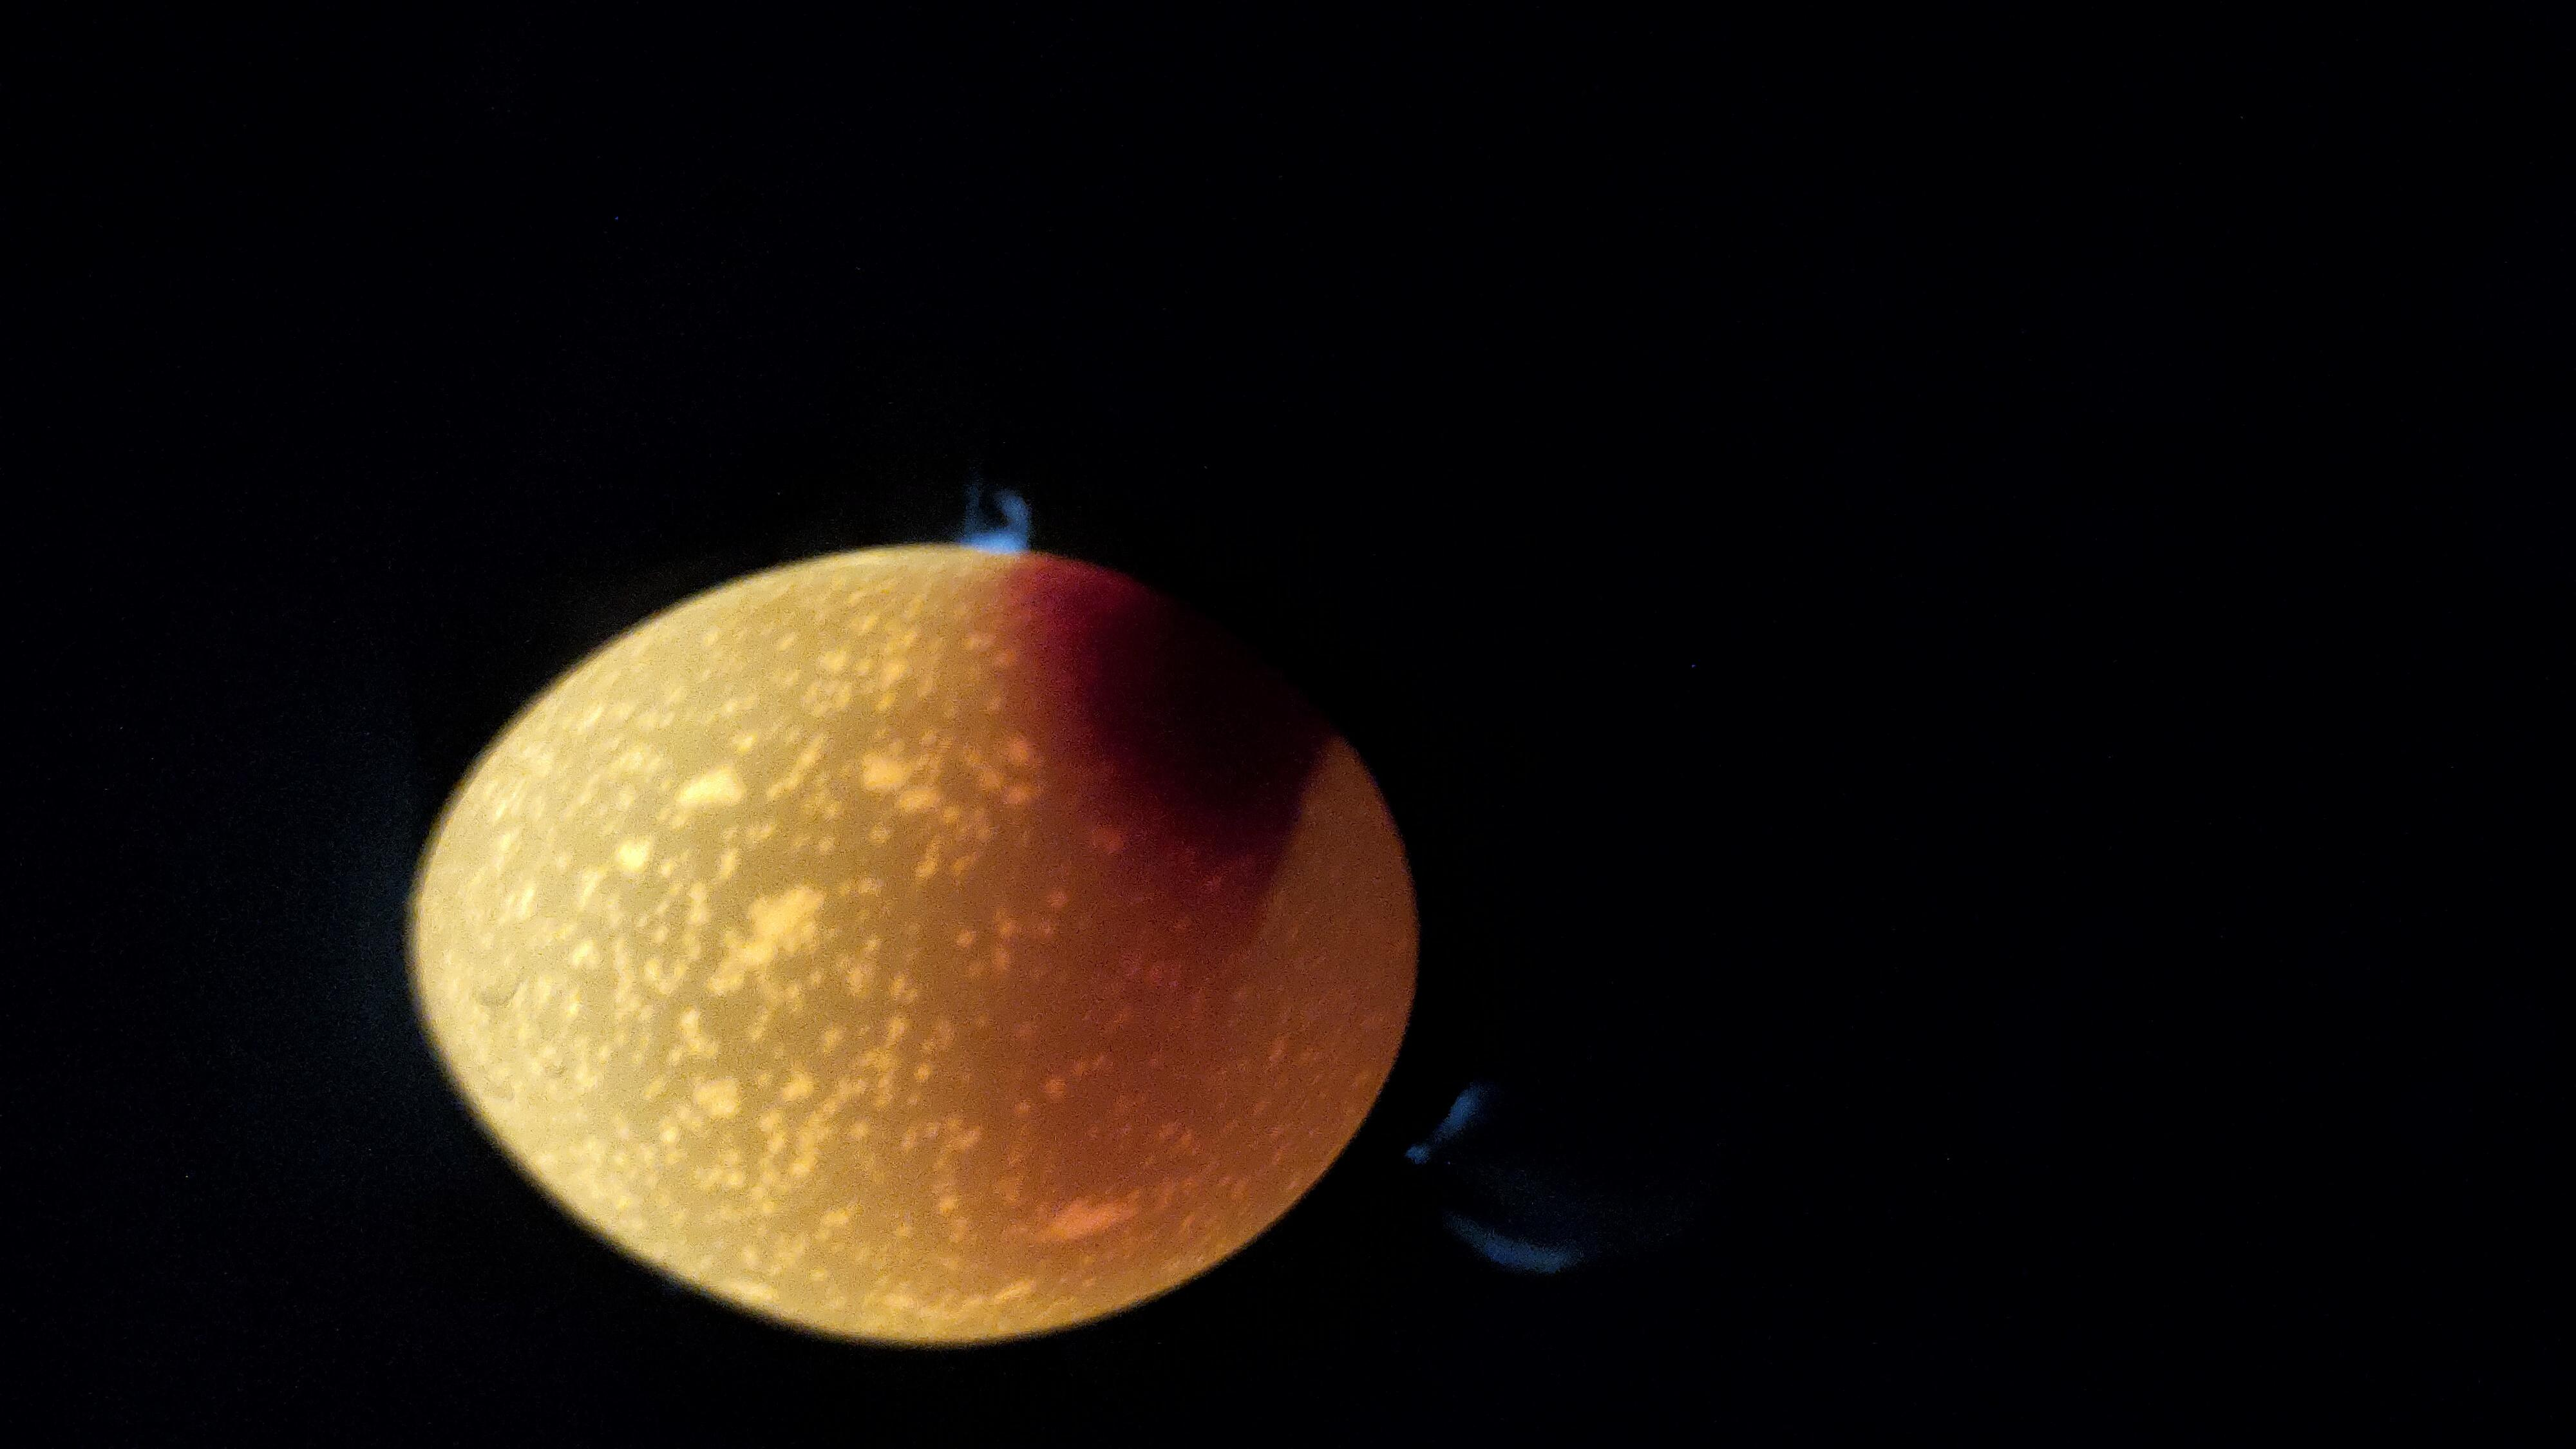AA - Premium: (172, 207, 1785, 826)
